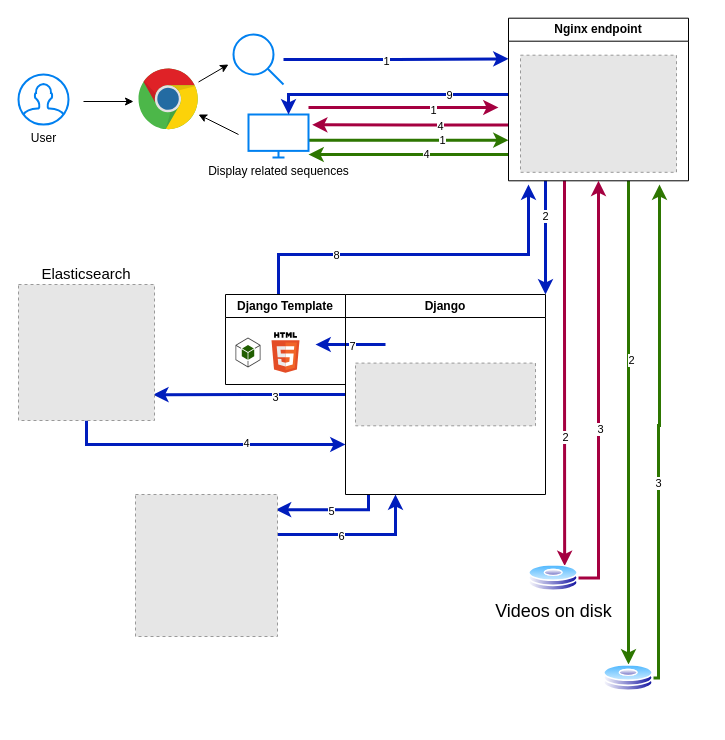
This 725x740 diagram has some shape labels left out. Grey dashed boxes stand in for pictures. The shapes that lost their labels are listed below. From the top down, each one's centre as x and y in pixels, then its label:
At (258,59): "Searching".
At (168,99): "Browser".
At (628,677): "Subtitle files on disk".
